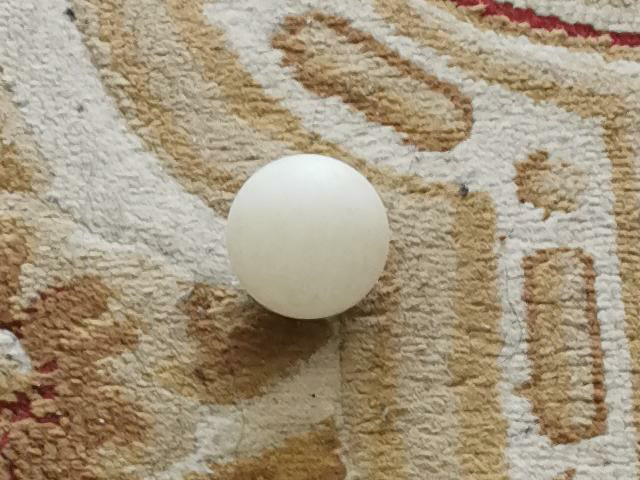ball: (227, 153, 393, 321)
